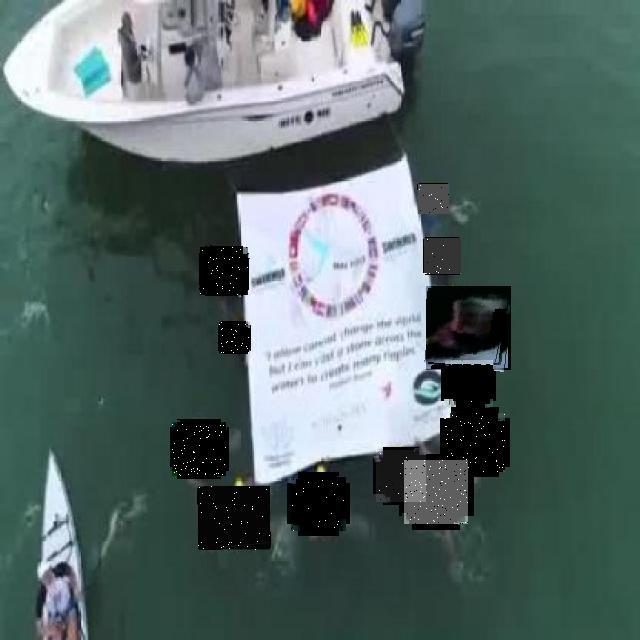swimming: (426, 286, 511, 370), (198, 486, 270, 550), (404, 460, 468, 524), (445, 413, 505, 472), (291, 477, 346, 531), (172, 422, 226, 476), (376, 450, 426, 502), (200, 247, 248, 295), (445, 360, 493, 407), (424, 238, 461, 274), (219, 322, 250, 353), (418, 184, 449, 214)
